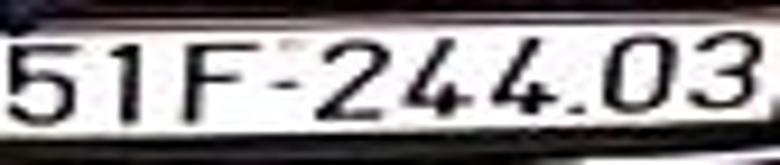-: (267, 76, 305, 96)
.: (563, 94, 586, 118)
0: (599, 33, 681, 113)
1: (110, 43, 150, 123)
2: (312, 36, 388, 125)
3: (689, 27, 765, 114)
4: (484, 36, 561, 114), (405, 37, 475, 118)
5: (6, 38, 84, 129)
F: (181, 39, 261, 128)
